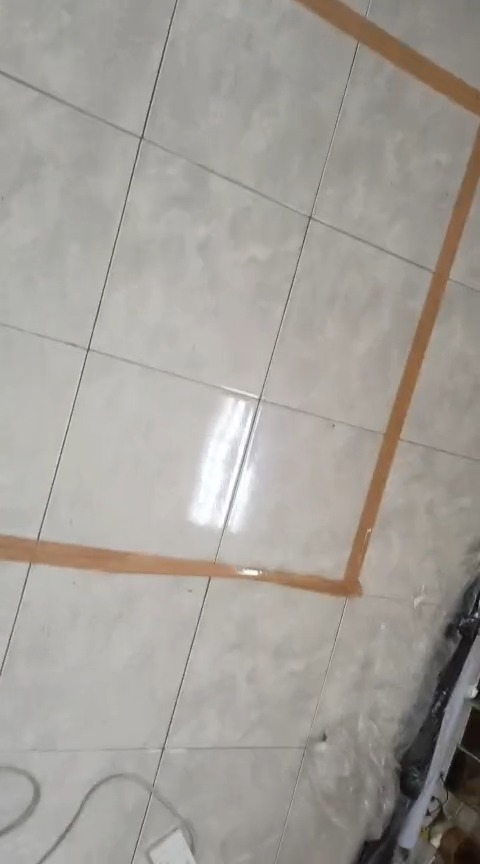floor marking: (0, 126, 479, 595), (299, 0, 479, 117)
